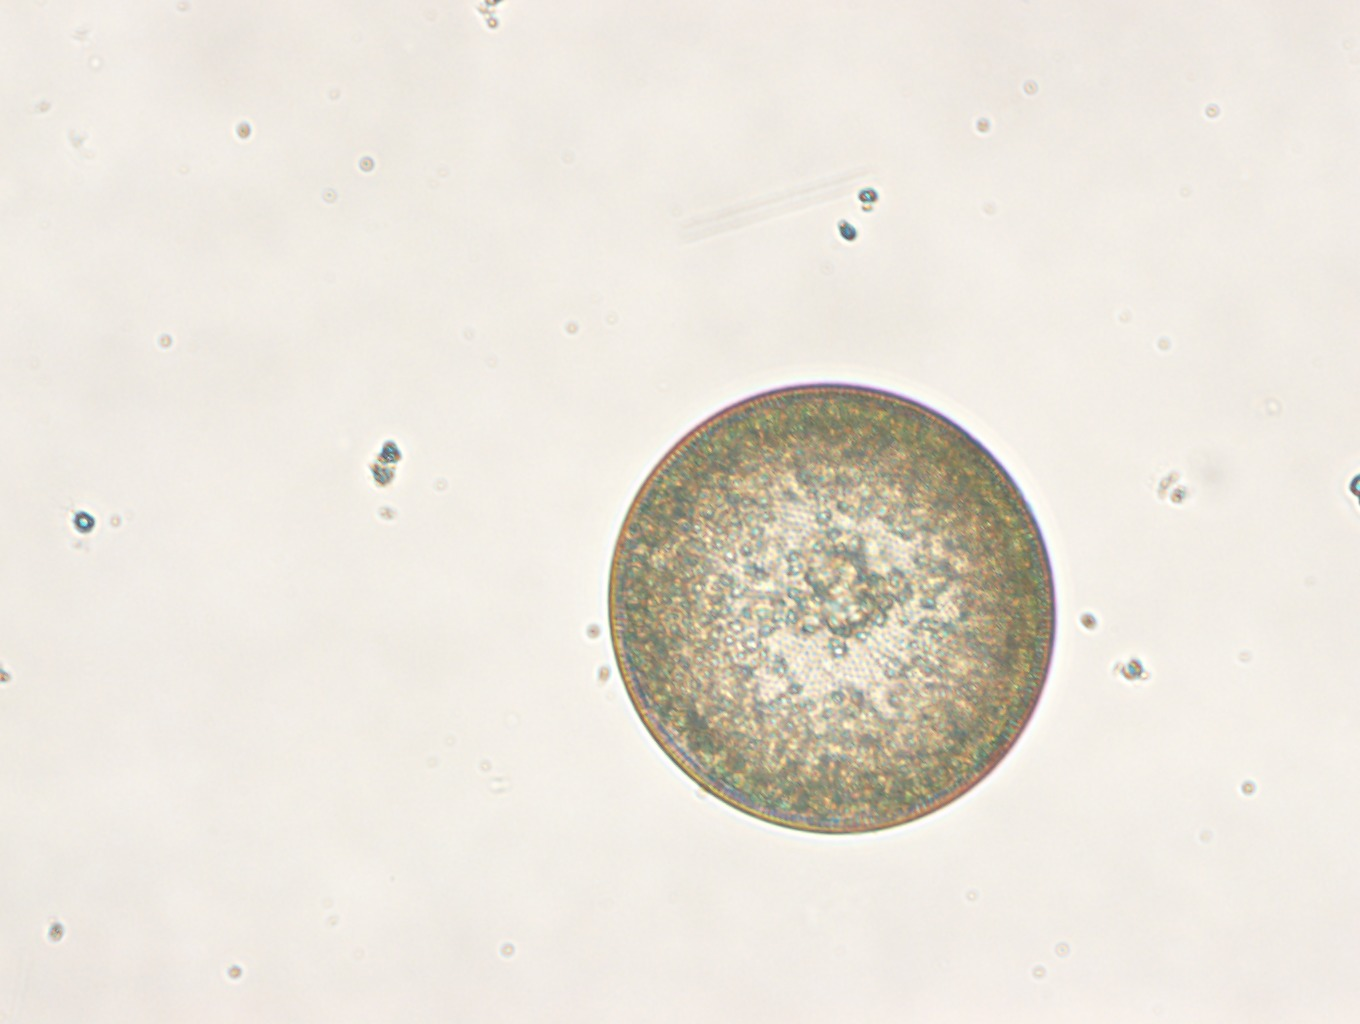coscinodiscus: (605, 380, 1058, 834)
